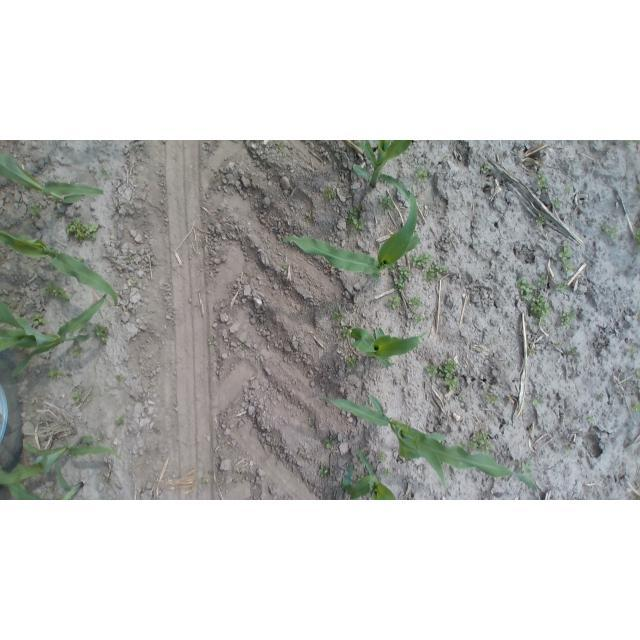Maize: (322, 390, 545, 497), (280, 176, 422, 285), (0, 289, 108, 378), (1, 228, 124, 305), (1, 437, 124, 498), (1, 152, 108, 208), (349, 140, 421, 216), (345, 323, 432, 365), (340, 446, 401, 500)
Weeds: (424, 359, 461, 394), (65, 218, 101, 243), (459, 431, 495, 453), (557, 241, 576, 277), (43, 282, 74, 302), (345, 204, 366, 233), (421, 262, 447, 282), (529, 295, 549, 320), (394, 263, 412, 290), (517, 276, 536, 300), (408, 251, 433, 269), (92, 323, 110, 344), (379, 194, 396, 216), (559, 309, 578, 328), (601, 223, 620, 241), (414, 166, 431, 184), (518, 460, 535, 477), (386, 295, 402, 312), (25, 203, 43, 218), (482, 391, 499, 406), (323, 186, 338, 203), (408, 295, 425, 310), (31, 311, 47, 326), (341, 324, 355, 340), (322, 436, 338, 450), (536, 212, 549, 229), (47, 367, 64, 380), (529, 393, 544, 407), (536, 173, 549, 189), (555, 279, 569, 293), (318, 463, 331, 478), (345, 355, 358, 369), (72, 391, 85, 405), (331, 309, 345, 322), (376, 451, 388, 465), (98, 168, 111, 180), (536, 274, 548, 287), (114, 415, 127, 427), (413, 312, 426, 324), (198, 474, 210, 486), (114, 373, 126, 385), (70, 347, 83, 358), (123, 252, 134, 264), (381, 467, 393, 478), (527, 347, 538, 358), (569, 346, 580, 357), (303, 210, 313, 222), (480, 164, 492, 174), (281, 260, 291, 272), (553, 197, 564, 207), (627, 347, 637, 358), (563, 444, 573, 455), (630, 401, 638, 414), (586, 415, 597, 424), (624, 140, 636, 148), (632, 228, 638, 244), (208, 337, 217, 347), (129, 279, 139, 288), (456, 393, 465, 402), (565, 185, 574, 193), (238, 342, 247, 350), (596, 391, 604, 399), (553, 341, 562, 348), (357, 472, 364, 480)
